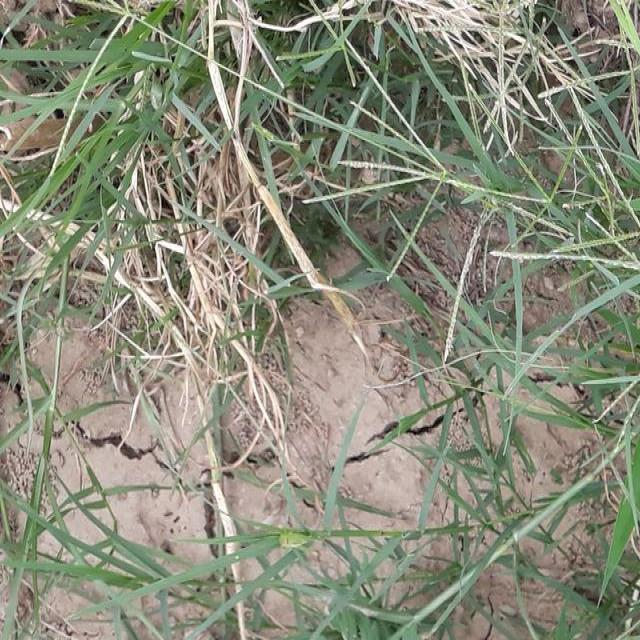weed: (0, 0, 626, 287), (379, 305, 640, 640), (0, 515, 360, 640)
